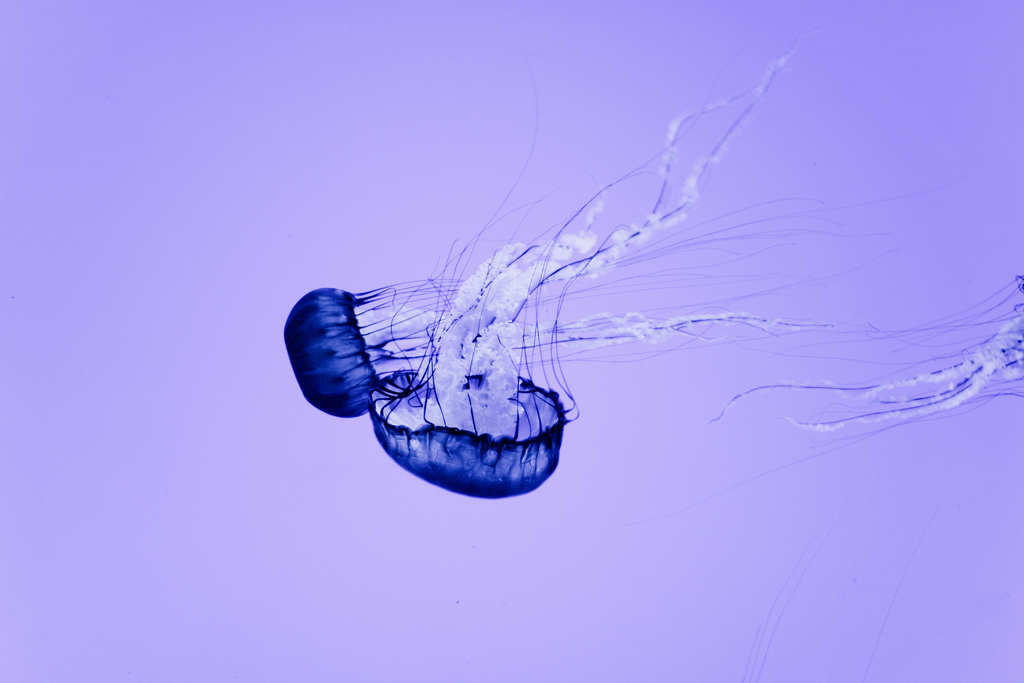Jellyfish: (366, 46, 762, 499), (282, 181, 949, 419)
